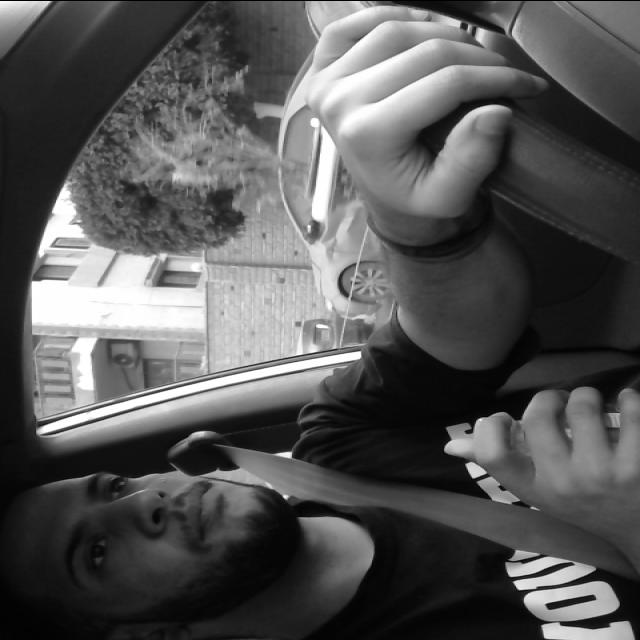drinking: (461, 390, 640, 475)
